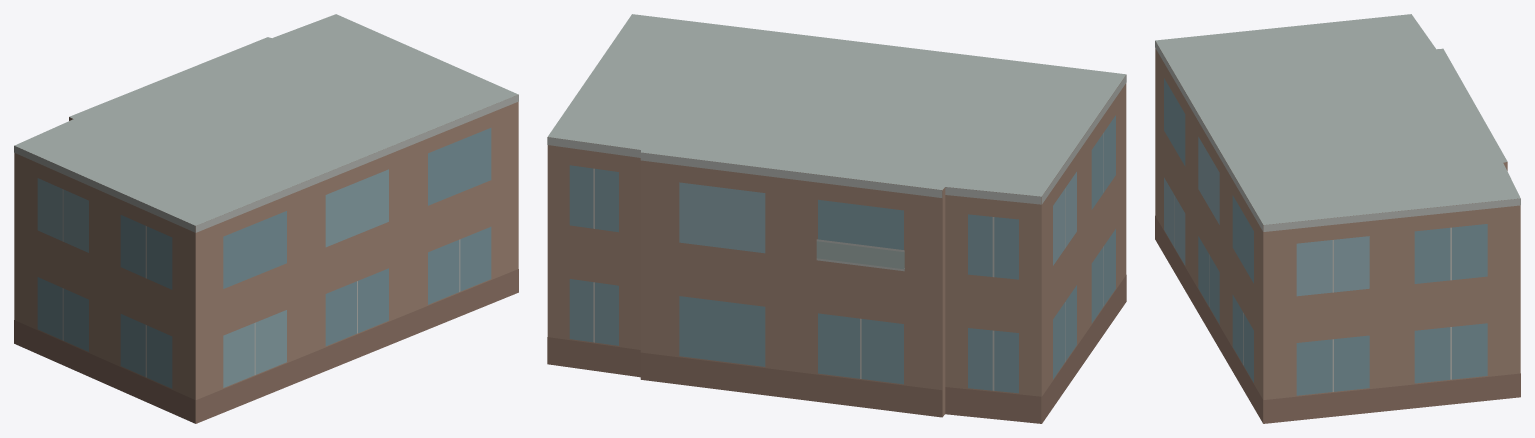
File: survey-upis-32610031.glb
3 views of the same model, side by side, from view 1: azimuth 30°, elevation 25°; view 2: azimuth 150°, elevation 25°; view 3: azimuth 270°, elevation 25° (orthographic). The views are drawn at different scales.
Visible parts, largest first — view 1: survey-upis-32610031.tmp; view 2: survey-upis-32610031.tmp; view 3: survey-upis-32610031.tmp.
Boxes of the visible parts, x1,y1,x2,y2 form: survey-upis-32610031.tmp: [14, 14, 518, 423]; survey-upis-32610031.tmp: [547, 14, 1126, 423]; survey-upis-32610031.tmp: [1155, 14, 1520, 423].
Size of the model in its own units: 15.72 by 6.9 by 11.51.
